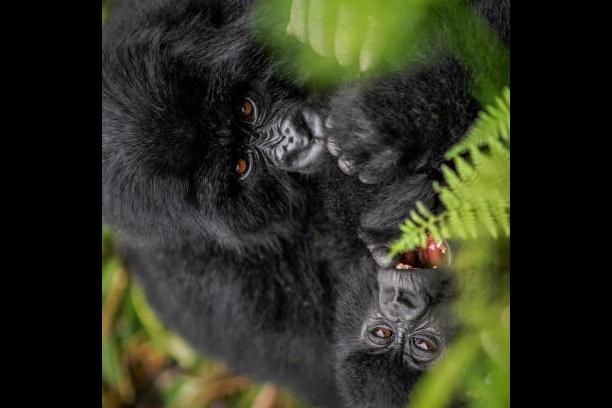goriile_montagne: (104, 0, 399, 299), (316, 150, 476, 408)
